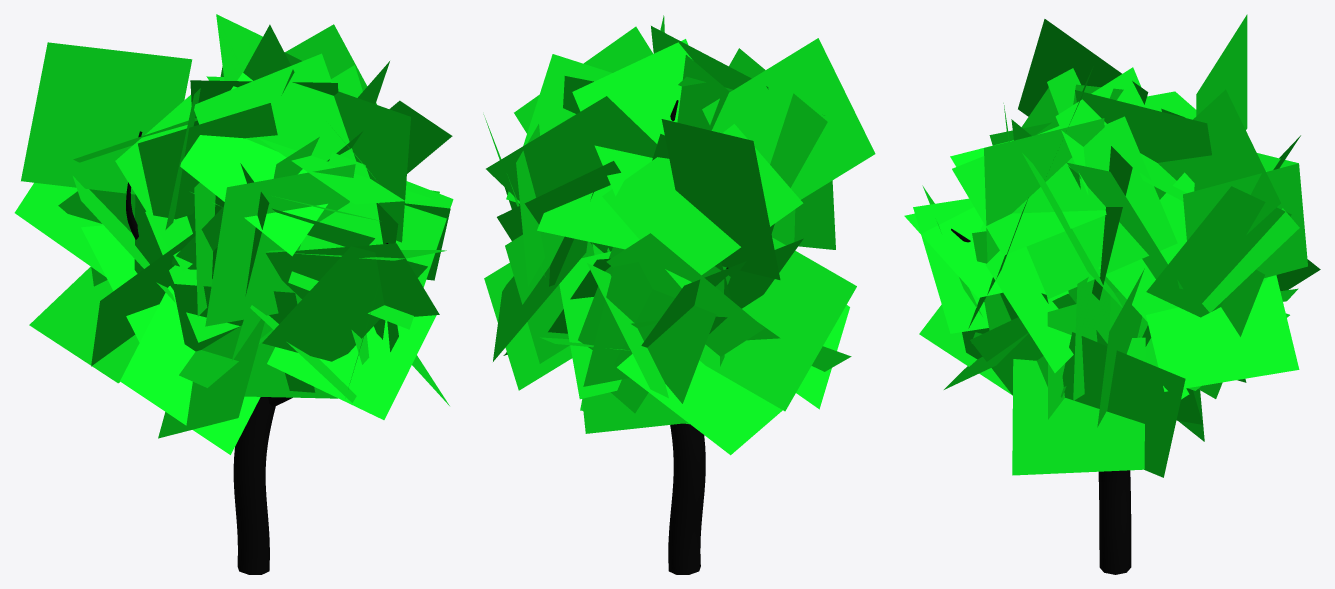
File: tree_1.glb
The picture shows the model from 3 angles, left to right: view 1: azimuth 30°, elevation 25°; view 2: azimuth 150°, elevation 25°; view 3: azimuth 270°, elevation 25°; orthographic projection. The views are drawn at different scales.
Visible parts, largest first — view 1: tree export; view 2: tree export; view 3: tree export.
Part boxes in pixels (x1,y1,x2,y2): tree export: (14,14,453,574); tree export: (483,15,875,574); tree export: (904,14,1320,574).
Size of the model in its own units: 18.95 by 27.32 by 20.44.
